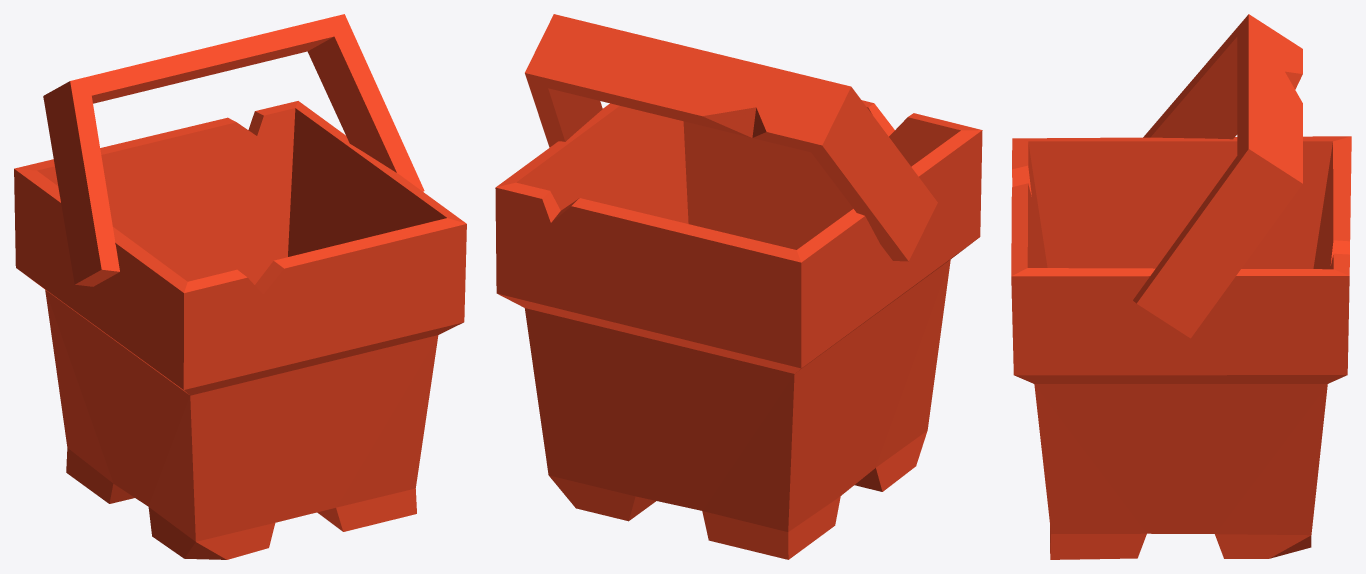
Rendered from SM_Form_Toy_D_City.fbx.
The picture shows the model from 3 angles, left to right: view 1: azimuth 30°, elevation 25°; view 2: azimuth 150°, elevation 25°; view 3: azimuth 270°, elevation 25°; orthographic projection. The views are drawn at different scales.
Visible parts, largest first — view 1: SM_Form_Toy_D_City; view 2: SM_Form_Toy_D_City; view 3: SM_Form_Toy_D_City.
Boxes of the visible parts, <box> form: SM_Form_Toy_D_City: <box>14,14,466,559</box>; SM_Form_Toy_D_City: <box>495,14,982,559</box>; SM_Form_Toy_D_City: <box>1011,14,1351,559</box>.
Bounding box in the file's own units: 0.2139 × 0.2667 × 0.1941.
